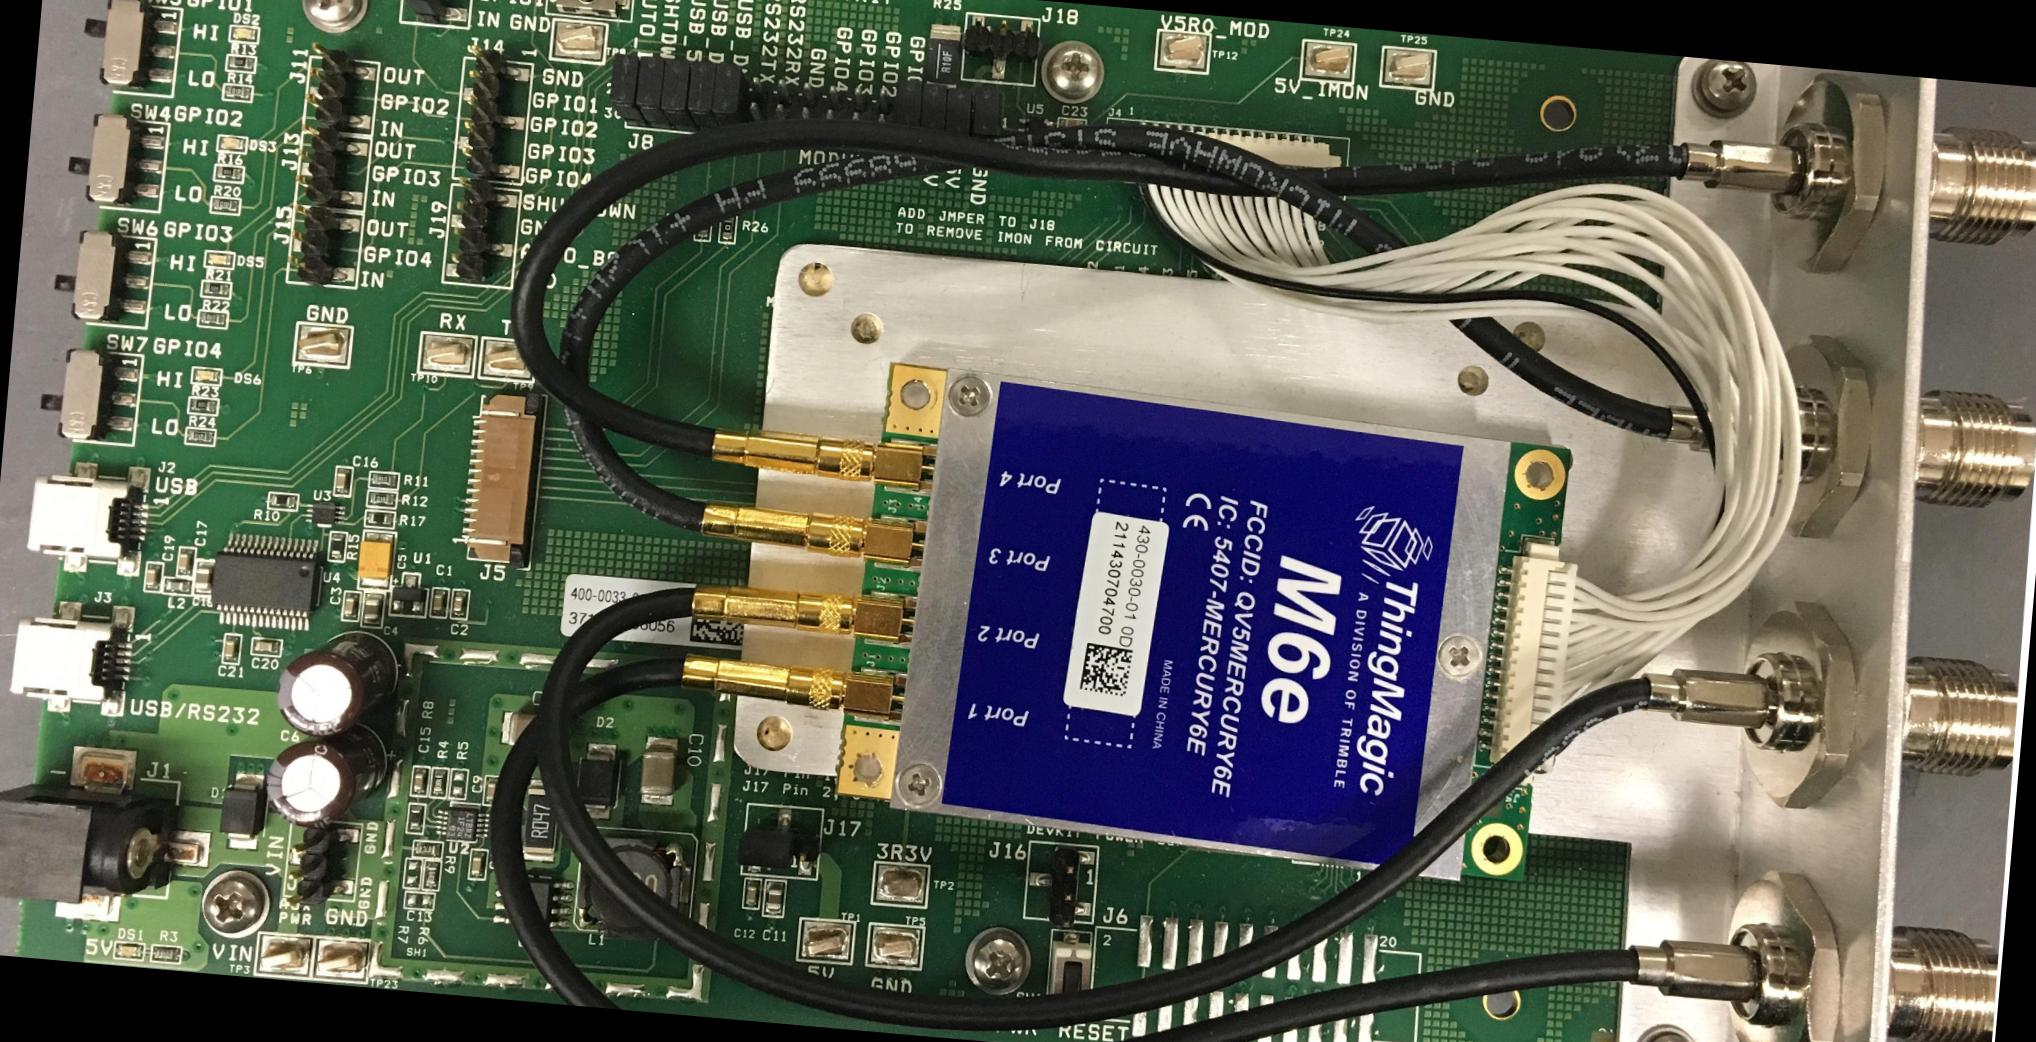Button: (544, 0, 635, 23)
Capacitor: (638, 734, 678, 805), (498, 710, 567, 747), (762, 879, 784, 917), (361, 590, 385, 626), (193, 557, 214, 595), (465, 847, 489, 880), (221, 631, 242, 665), (331, 464, 352, 497), (142, 560, 163, 591), (428, 586, 449, 618), (339, 590, 360, 622), (250, 635, 282, 657), (175, 545, 195, 578), (449, 587, 468, 619), (409, 766, 428, 797), (481, 774, 500, 805), (742, 875, 760, 906), (1059, 116, 1087, 128)
Connector: (1713, 586, 2024, 831), (1732, 318, 2035, 561), (1756, 65, 2035, 302), (1686, 859, 2005, 1041), (0, 734, 217, 930), (1479, 532, 1580, 772), (699, 489, 924, 566), (708, 420, 936, 494), (688, 574, 916, 647), (680, 649, 906, 720), (457, 388, 545, 569), (7, 594, 132, 718), (25, 456, 149, 578), (1103, 120, 1349, 178), (451, 54, 533, 185), (743, 73, 896, 136), (441, 183, 521, 288), (1021, 844, 1100, 929), (303, 45, 376, 136), (286, 206, 363, 288), (286, 819, 360, 904), (962, 11, 1041, 88), (296, 129, 369, 211), (792, 807, 824, 881)
Diode: (218, 771, 267, 851), (574, 740, 621, 819)
Electrolytic Capacitor: (275, 623, 400, 742), (262, 731, 385, 832), (356, 528, 395, 589)
IC: (906, 365, 1504, 883), (210, 530, 323, 630), (435, 804, 490, 843), (388, 570, 429, 618), (302, 501, 346, 528), (1026, 116, 1049, 140)
Inductor: (574, 825, 696, 938), (161, 577, 193, 595)
Jumper: (739, 801, 796, 877), (606, 52, 647, 128), (659, 56, 700, 130), (633, 54, 674, 129), (683, 58, 724, 133), (711, 58, 751, 134), (397, 0, 476, 29), (966, 84, 1001, 140), (944, 85, 971, 136), (917, 84, 945, 133), (893, 82, 921, 128)
Led: (202, 247, 235, 270), (187, 364, 222, 385), (112, 940, 144, 962), (214, 133, 247, 153), (229, 23, 259, 43)
Pads: (1088, 909, 1423, 1041), (448, 767, 469, 800), (403, 890, 435, 910), (404, 856, 423, 889)
Resistor Network: (521, 779, 561, 860), (925, 24, 965, 86), (183, 425, 218, 448), (403, 801, 425, 835), (691, 207, 714, 241), (266, 490, 299, 512), (326, 529, 347, 562), (223, 52, 256, 73), (221, 81, 254, 102), (365, 489, 397, 510), (428, 766, 449, 797), (716, 211, 738, 243), (207, 194, 239, 215), (197, 308, 229, 330), (187, 395, 219, 416), (199, 278, 233, 298), (364, 509, 395, 530), (411, 839, 443, 859), (149, 944, 181, 964), (368, 468, 397, 489), (421, 859, 440, 890), (213, 163, 245, 182)
Switch: (62, 109, 167, 211), (49, 226, 154, 328), (37, 343, 142, 445), (77, 0, 182, 96), (1045, 930, 1096, 1019)
Test Point: (549, 16, 607, 65), (795, 916, 855, 964), (291, 322, 352, 368), (872, 860, 930, 908), (865, 921, 924, 969), (254, 933, 312, 980), (417, 331, 476, 377), (312, 937, 369, 984), (1300, 37, 1356, 82), (1379, 47, 1437, 90), (478, 338, 536, 381), (1155, 28, 1209, 73)
Transistor: (490, 871, 573, 940)
